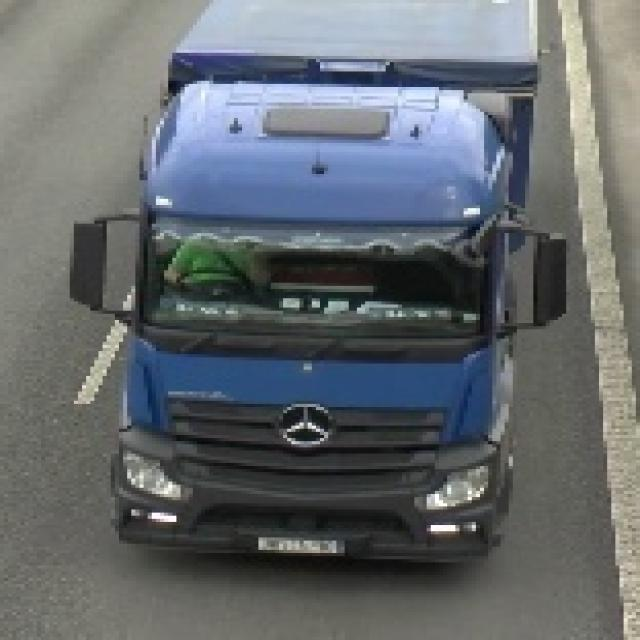TRUCK: (76, 2, 567, 566)
